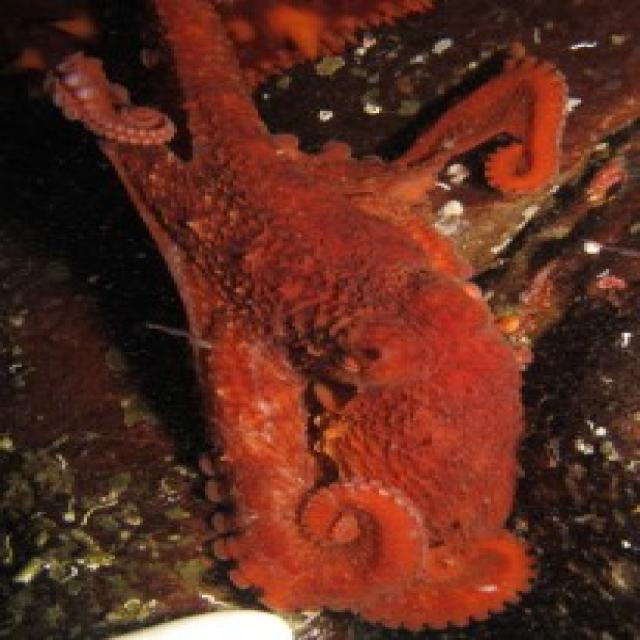Octo: (90, 111, 540, 624)
